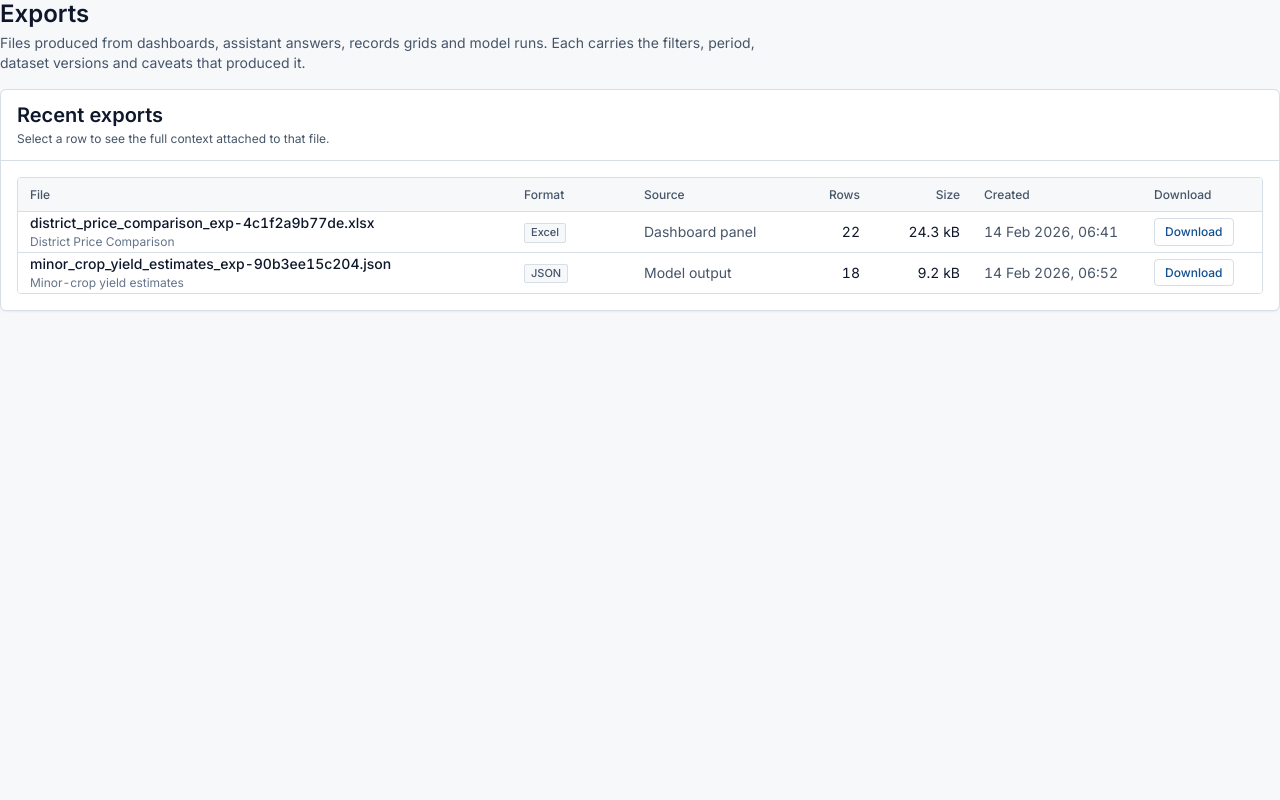
Test: Exports (RFP area 8) › opens an export and shows the applied context attached to it
Click the text "minor_crop_yield_estimates_exp-90b3ee15c204.json" at (211, 263), box x1=30 y1=255 x2=391 y2=272
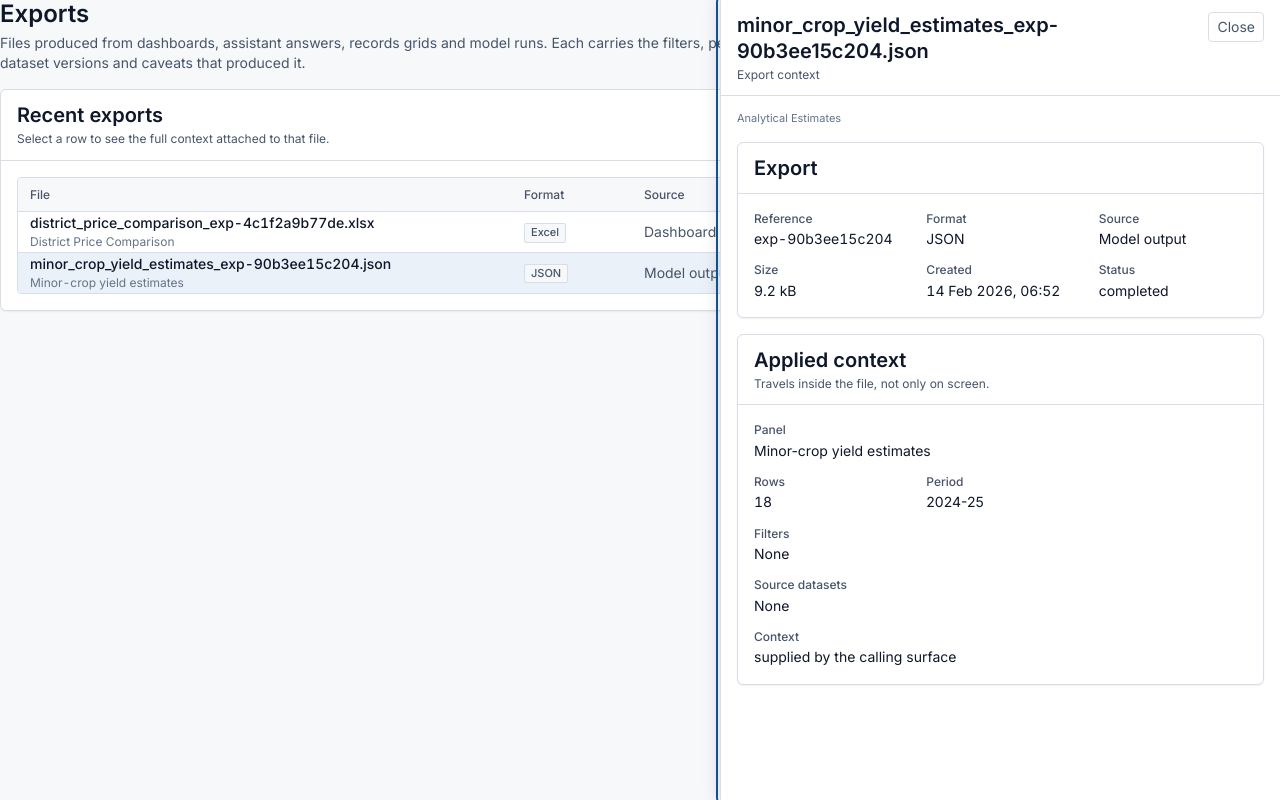
Expected: the heading "Applied context" is shown, x1=754 y1=348 x2=906 y2=372
Expected: the text "Analytical Estimates" is shown, x1=737 y1=111 x2=841 y2=125
Expected: the text "supplied by the calling surface" is shown, x1=754 y1=648 x2=956 y2=666
